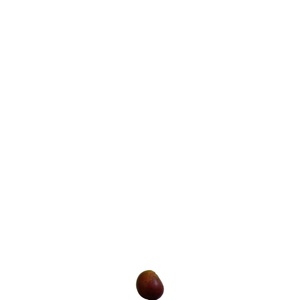manga: (136, 266, 165, 300)
